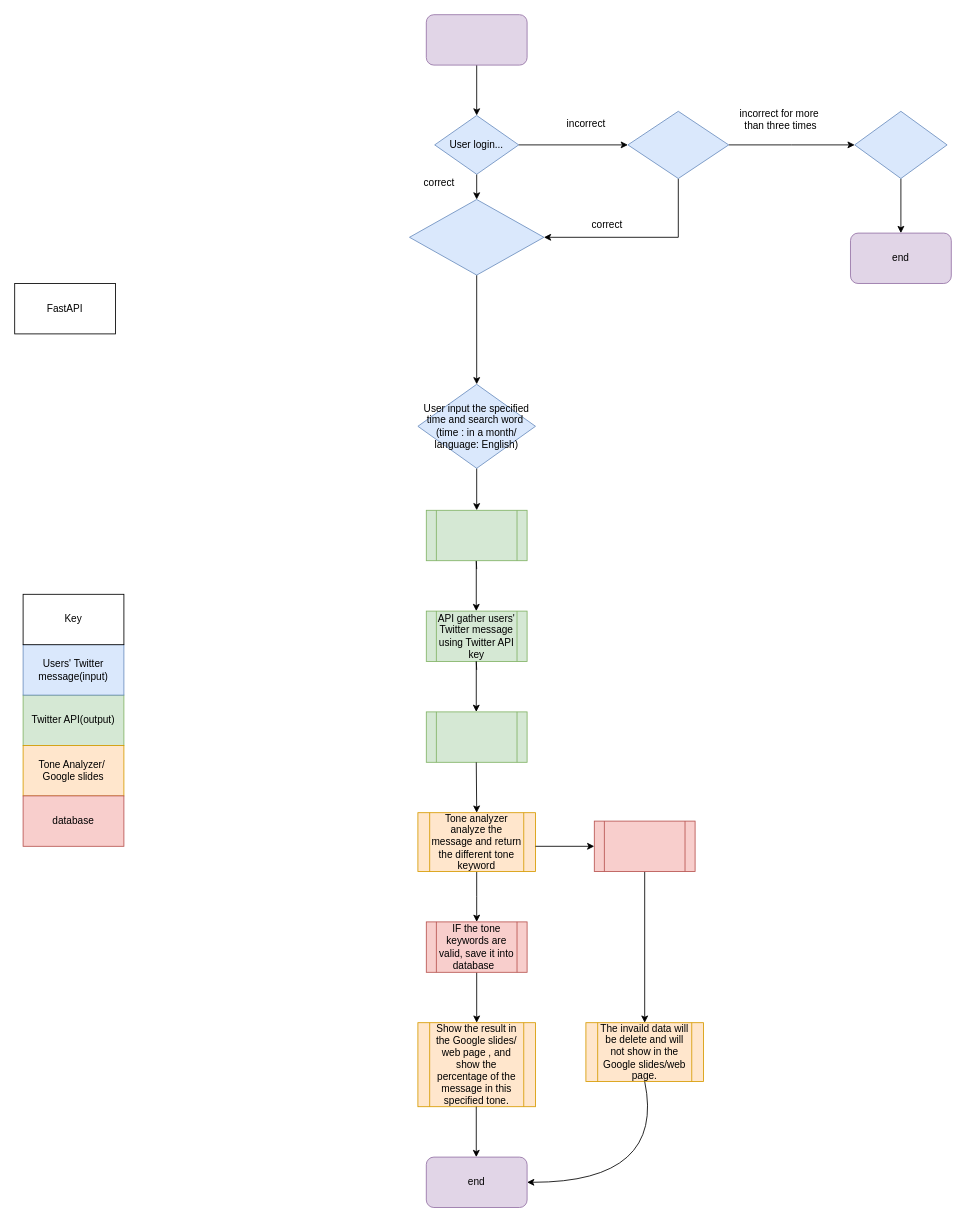
Image size: 966x1222. Some labels were removed from this diagram. Here are the shapes that lost their labels. From the top down, the centre of each, then its label:
At [476,39]: "start".
At [678,144]: "API requires users to reinput the keyword".
At [900,144]: "API locked up".
At [476,237]: "User input a specified tone keyword".
At [476,535]: "API search the message according to the search word".
At [476,736]: "API send the message into the tone analyzer".
At [644,846]: "IF the tone analyzer is undetected or invalid".
